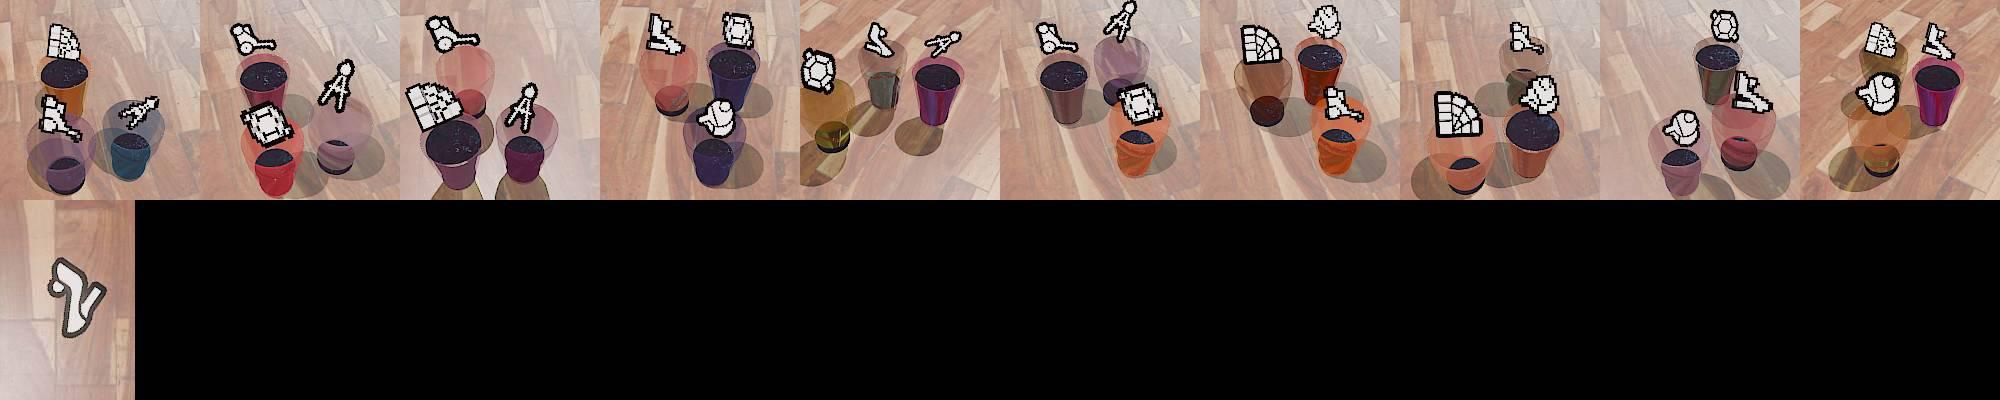icon: (46, 255, 108, 339), (404, 79, 466, 131), (240, 102, 294, 146), (424, 14, 482, 54), (38, 94, 84, 142), (316, 59, 355, 114), (1434, 91, 1478, 137), (1856, 72, 1901, 115), (503, 81, 539, 134), (1118, 83, 1163, 125), (1519, 73, 1561, 118), (1240, 22, 1283, 64), (1731, 72, 1773, 114), (646, 12, 685, 56), (800, 47, 837, 93), (230, 22, 277, 57), (696, 97, 737, 137), (1321, 85, 1364, 123), (1035, 20, 1078, 57), (46, 22, 84, 62), (1103, 0, 1137, 43), (1662, 109, 1701, 146), (1305, 4, 1342, 41), (1509, 19, 1546, 56), (119, 95, 159, 128), (1921, 21, 1954, 60), (1864, 21, 1898, 58), (722, 12, 756, 49), (863, 21, 895, 59), (924, 30, 962, 59), (1709, 9, 1738, 44)
